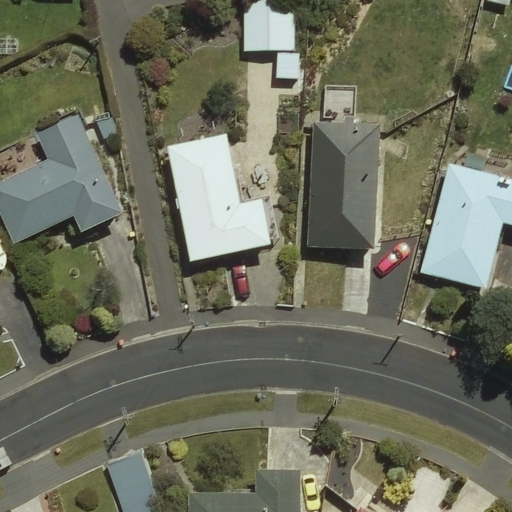DT: (115, 400, 137, 432), (326, 382, 346, 409), (183, 310, 201, 333)
